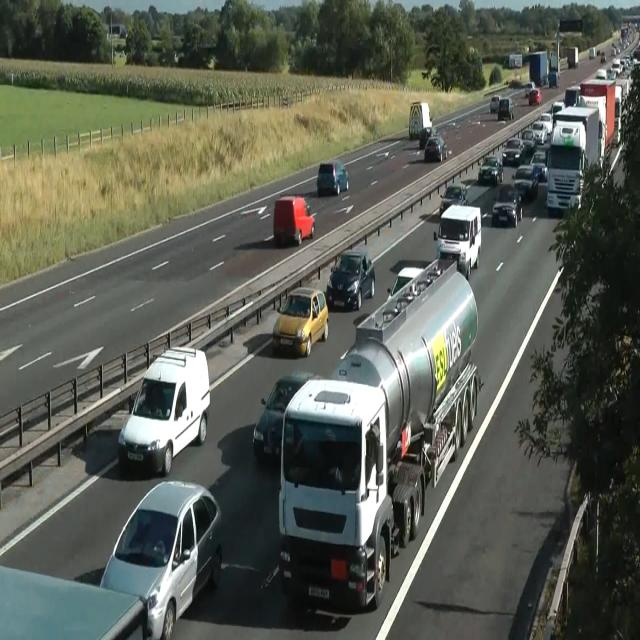bus: (0, 564, 148, 639), (252, 371, 322, 465), (272, 286, 328, 358), (382, 263, 442, 324), (326, 250, 375, 310), (386, 266, 424, 300), (316, 159, 348, 196), (438, 184, 468, 218), (477, 155, 503, 185), (501, 137, 525, 165), (424, 135, 448, 162), (529, 150, 548, 182), (531, 121, 547, 145), (521, 129, 537, 150), (539, 113, 553, 136), (595, 67, 617, 81), (528, 88, 542, 106), (524, 82, 536, 98), (490, 94, 500, 113), (612, 58, 622, 76), (600, 52, 606, 63)
car: (277, 255, 482, 611)
jeep: (99, 478, 223, 638), (117, 345, 210, 476), (433, 203, 481, 277), (273, 194, 315, 246), (491, 182, 522, 227), (512, 164, 538, 198), (497, 97, 514, 120)
minibus: (546, 105, 602, 216), (578, 78, 616, 158), (408, 102, 432, 140), (530, 51, 548, 86), (107, 23, 127, 40), (503, 52, 523, 68), (567, 46, 579, 68)
